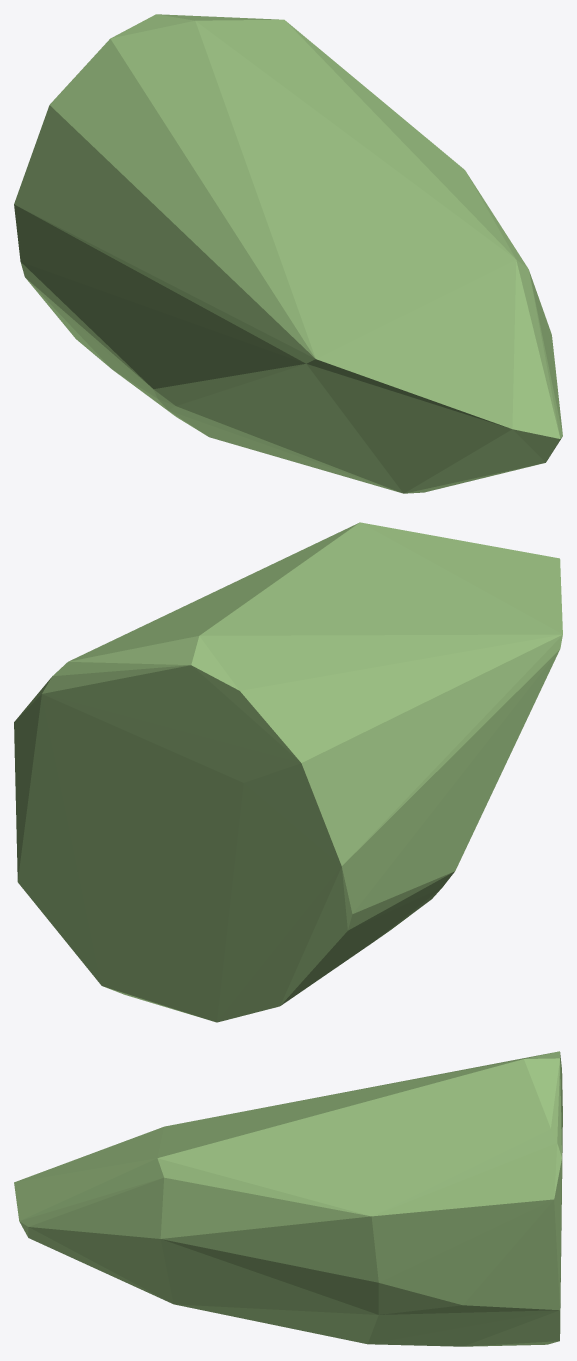
Rendered from paint_container_bottle_orange_a03.glb.
The picture shows the model from 3 angles, top to bottom: view 1: azimuth 30°, elevation 25°; view 2: azimuth 150°, elevation 25°; view 3: azimuth 270°, elevation 25°; orthographic projection. The views are drawn at different scales.
Parts seen in each view (by area): view 1: geometry_0; view 2: geometry_0; view 3: geometry_0.
Boxes of the visible parts, x1,y1,x2,y2 form: geometry_0: (14,14,562,493); geometry_0: (14,522,562,1022); geometry_0: (14,1051,562,1346).
Bounding box in the file's own units: 0.2586 × 0.2548 × 0.479.
